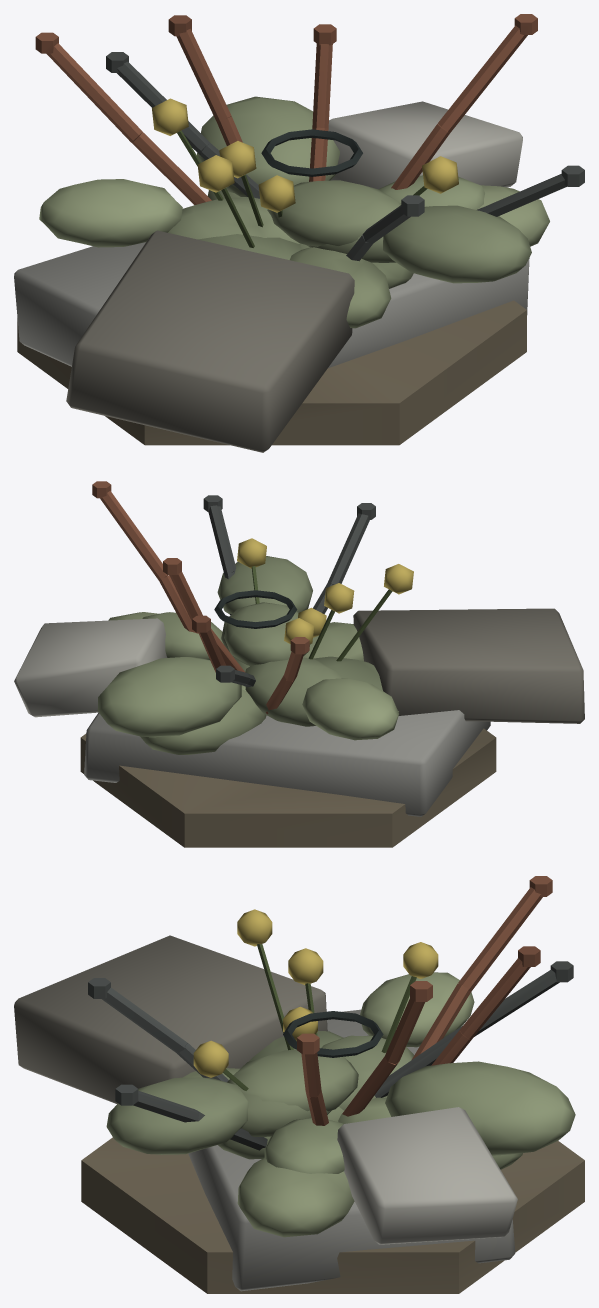
Rendered from rebar_bloom_b.glb.
3 renders of one model, top to bottom at view 1: azimuth 30°, elevation 25°; view 2: azimuth 150°, elevation 25°; view 3: azimuth 270°, elevation 25°, orthographic. The views are drawn at different scales.
Visible parts, largest first — view 1: Surface; view 2: Surface; view 3: Surface.
Part boxes in pixels (x1,y1,x2,y2): Surface: (14,14,584,452); Surface: (14,481,584,847); Surface: (14,876,584,1293).
Bounding box in the file's own units: 4.19 × 2.03 × 3.74.
